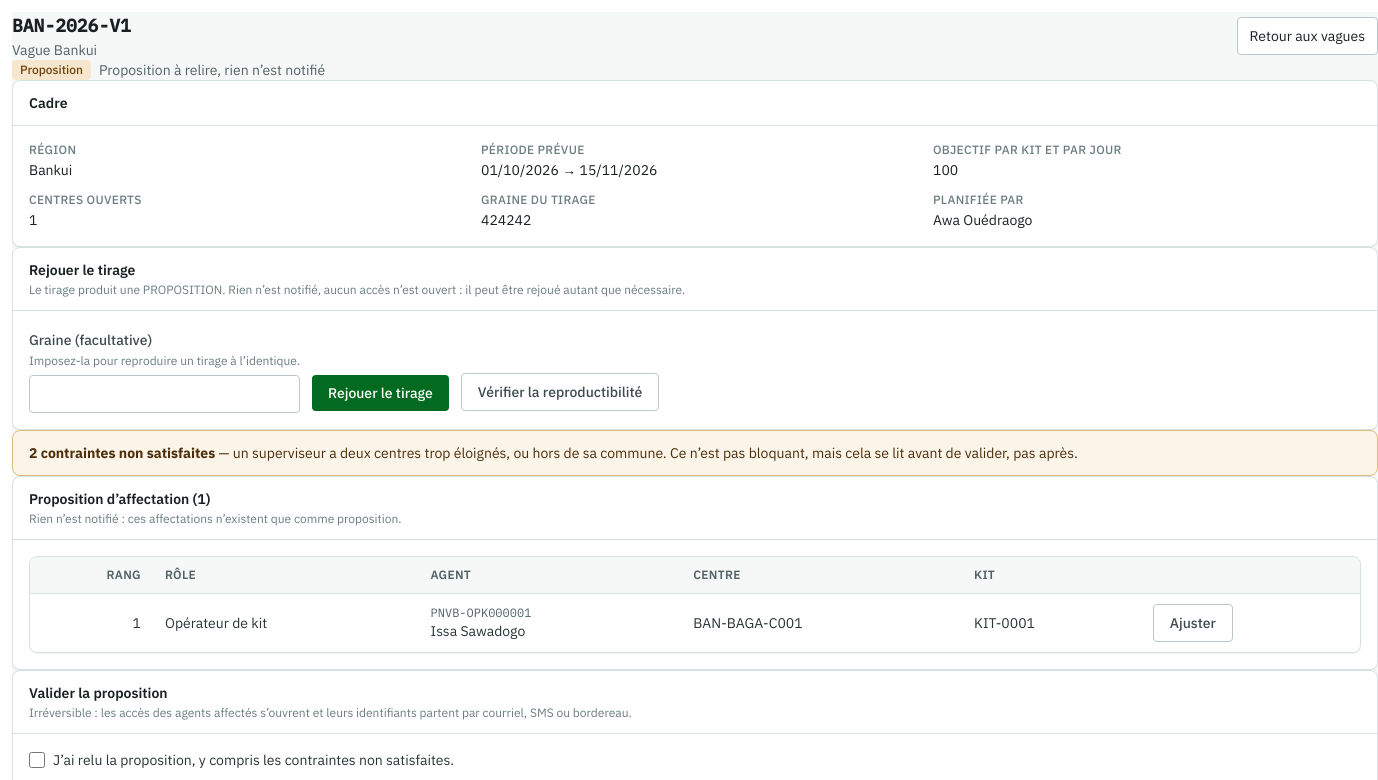
it: la fiche d’une vague › propose l’ajustement d’une affectation, qui désigne le nouvel agent
Click the button "Ajuster".
click(1193, 623)  # box [1153, 604, 1233, 642]
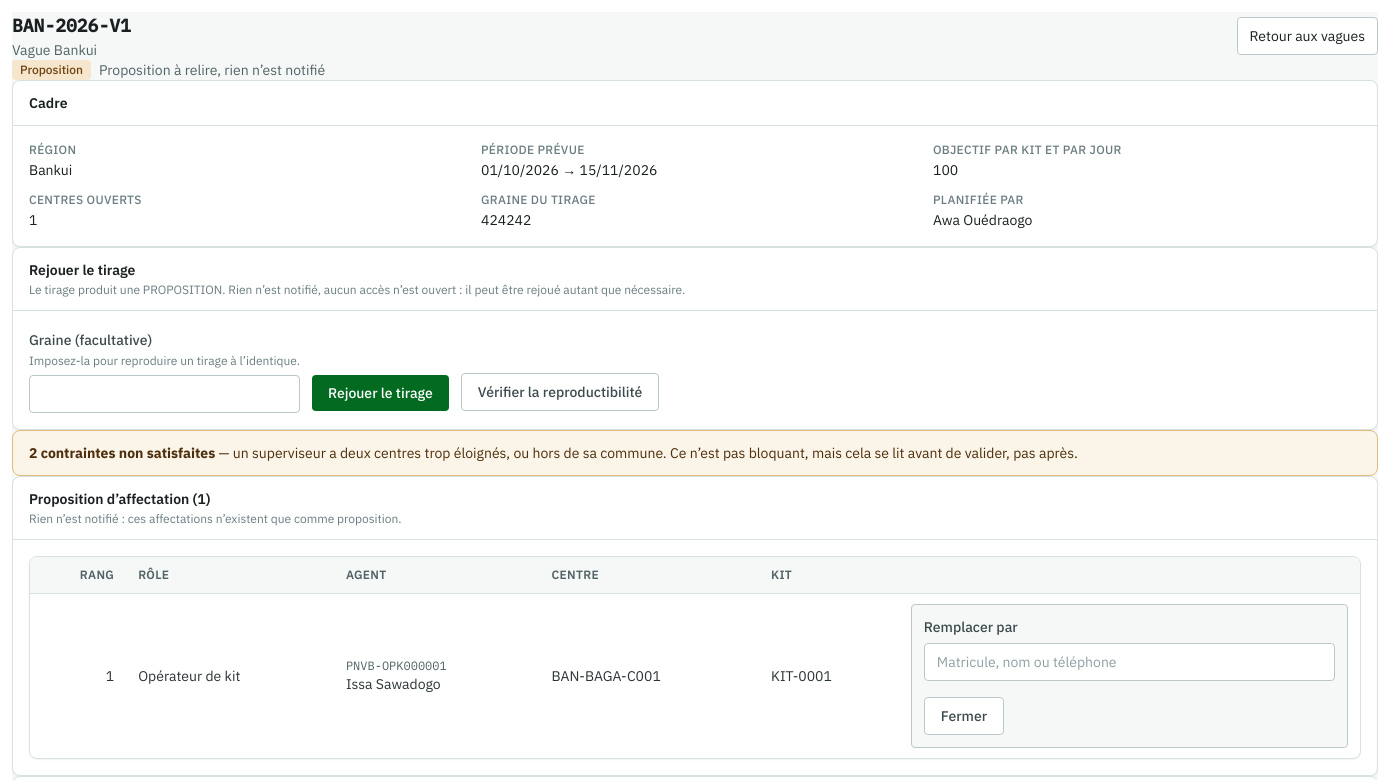
Expected: the search field labelled "Remplacer par" is shown, [924, 643, 1335, 681]
